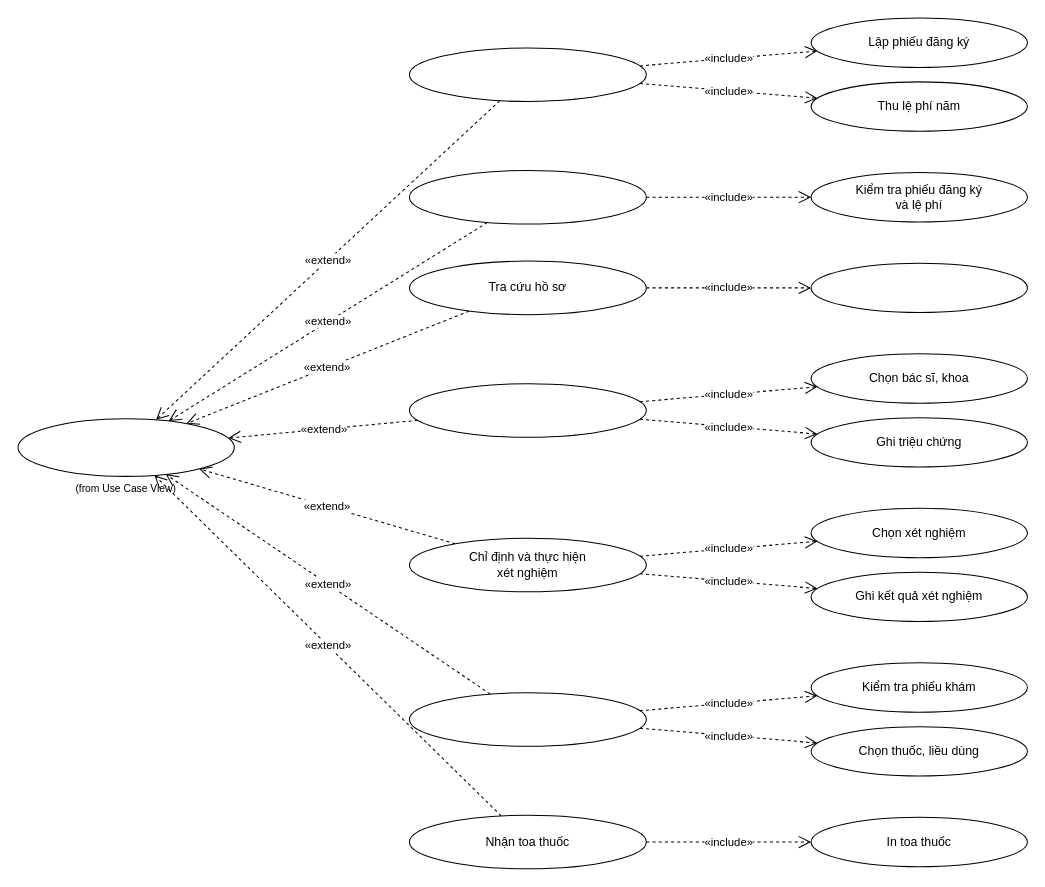
Some shapes in this 1045 by 887 pixel diagram are drawn without their labels. Here are the shapes that lost their labels. From the top down, the centre of each, then its label:
At pixel 527 74: "Đăng ký bệnh nhân, đóng lệ phí năm".
At pixel 527 196: "Cấp hồ sơ bệnh án".
At pixel 918 287: "Tìm theo mã hồ sơ, họ tên, điện thoại".
At pixel 527 410: "Lập phiếu khám".
At pixel 125 447: "Khám bệnh từ đăng ký đến nhận toa thuốc".
At pixel 527 719: "Lập toa thuốc".
